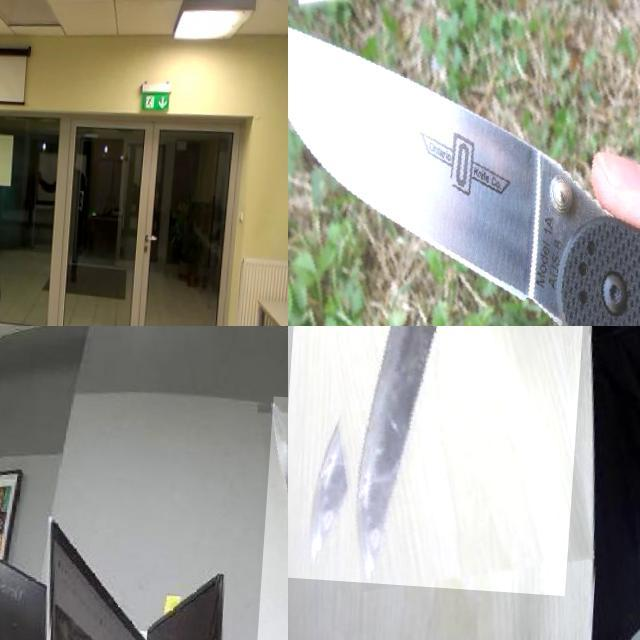-: (288, 0, 640, 326), (288, 326, 602, 612), (258, 391, 288, 640)
gun-knife-thesis - v11 Yolov5 augmented: (0, 175, 19, 233)
